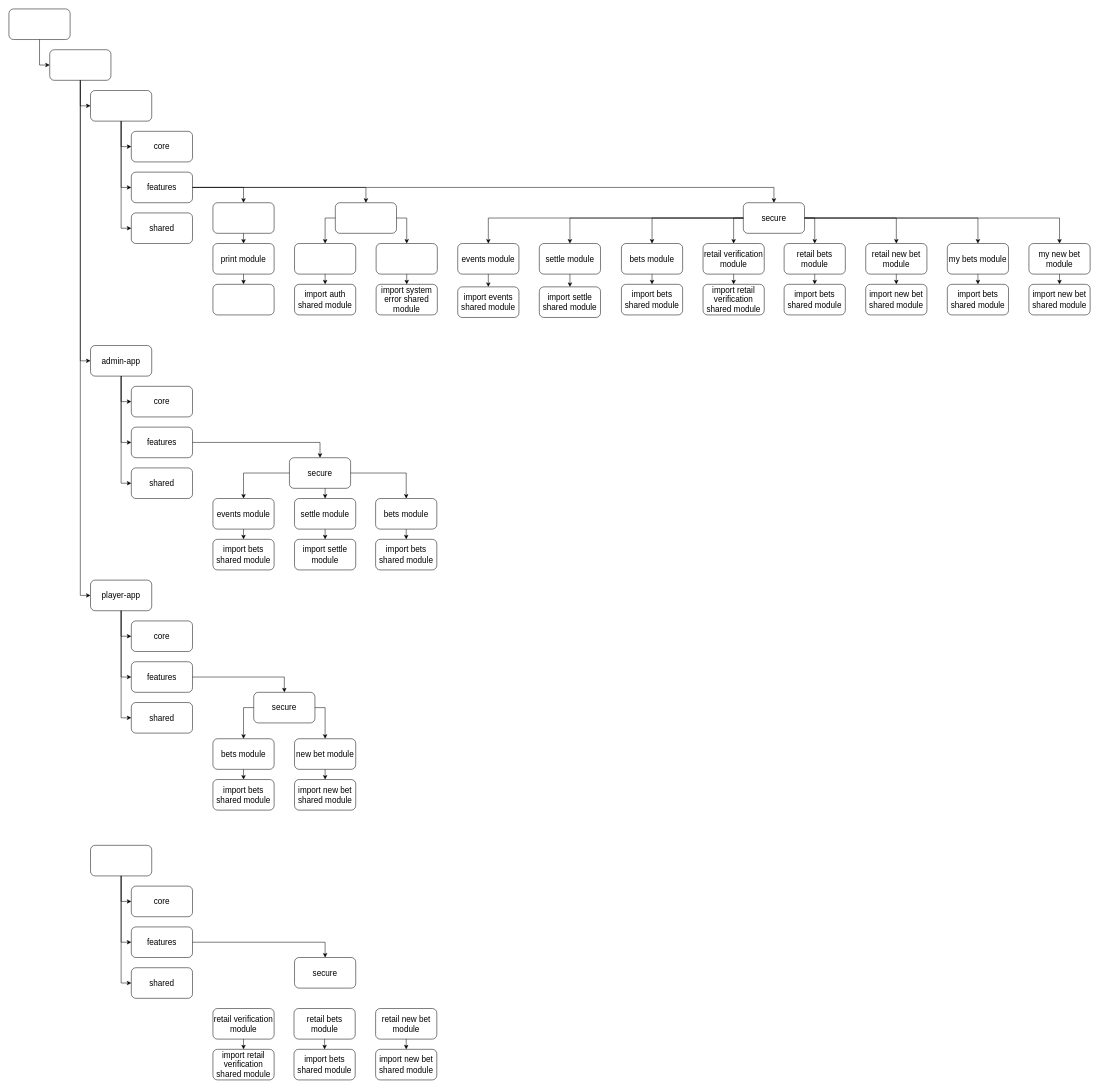
Some shapes in this 1099 by 1089 pixel diagram are drawn without their labels. Here are the shapes that lost their labels. From the top down, the centre of each, then its label:
At (x=39, y=24): "5-of-90-lottery".
At (x=80, y=64): "apps".
At (x=121, y=105): "platform-app".
At (x=243, y=217): "print".
At (x=366, y=217): "public".
At (x=325, y=258): "auth module".
At (x=406, y=258): "system-error module".
At (x=243, y=299): "import print shared module".
At (x=121, y=860): "cashier-app".
